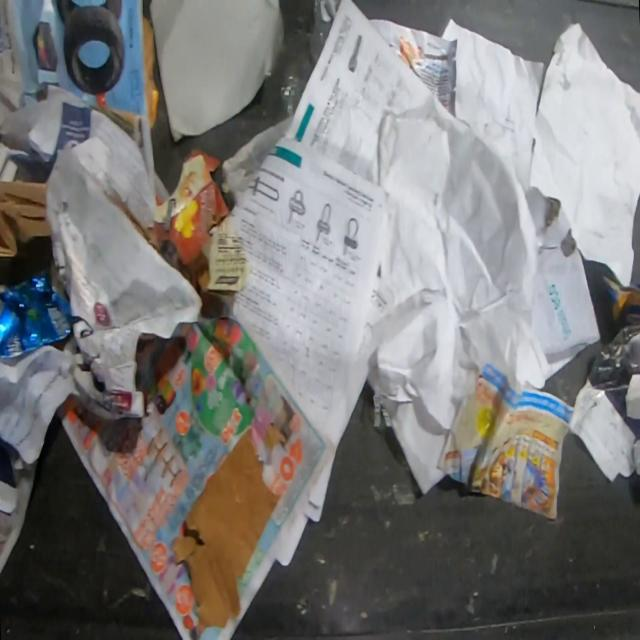cardboard: (144, 144, 248, 300)
metal: (0, 275, 70, 358)
soft_plastic: (279, 0, 343, 113)
